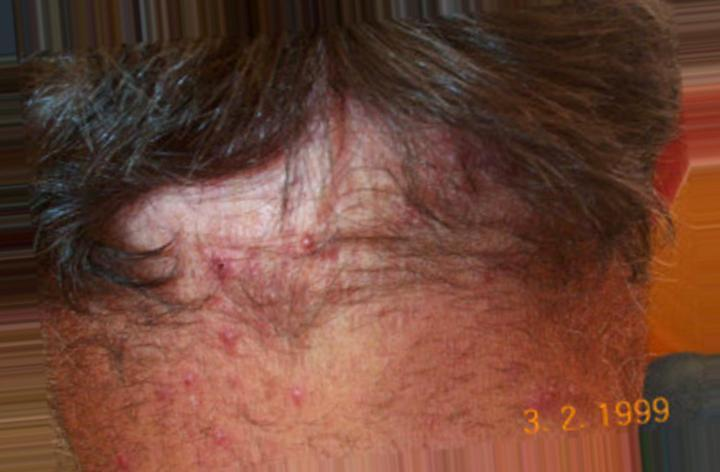Folliculitis: (183, 129, 516, 300)
